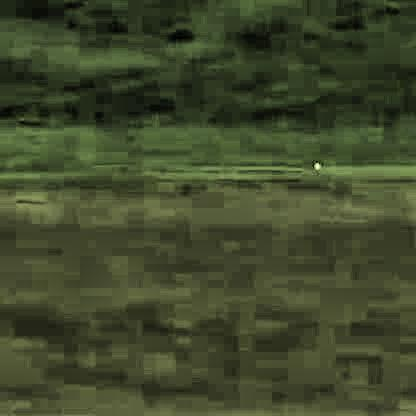golfball: (308, 159, 319, 169)
